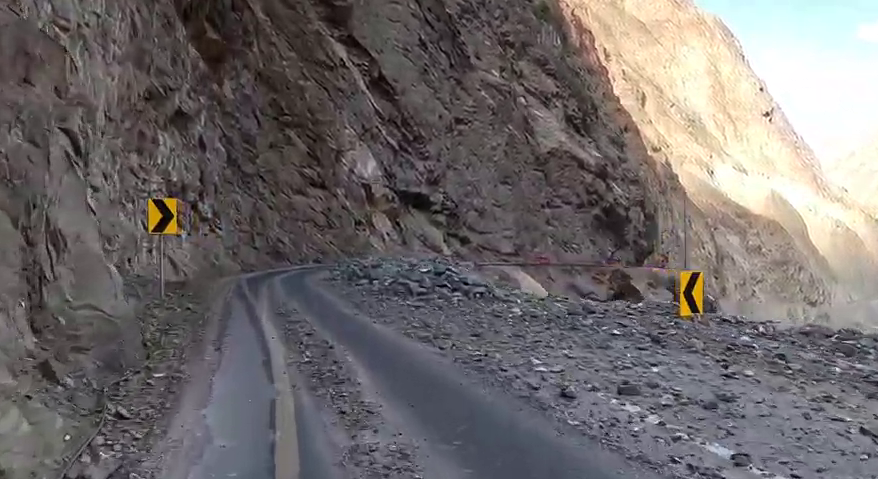unexpected: (285, 173, 692, 444)
